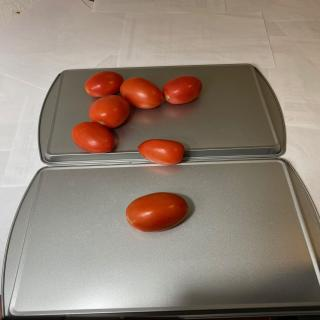Tomato: (125, 192, 188, 232), (71, 122, 115, 154), (88, 95, 130, 128), (120, 77, 163, 109), (137, 139, 185, 165), (162, 75, 202, 104), (84, 71, 124, 97)
